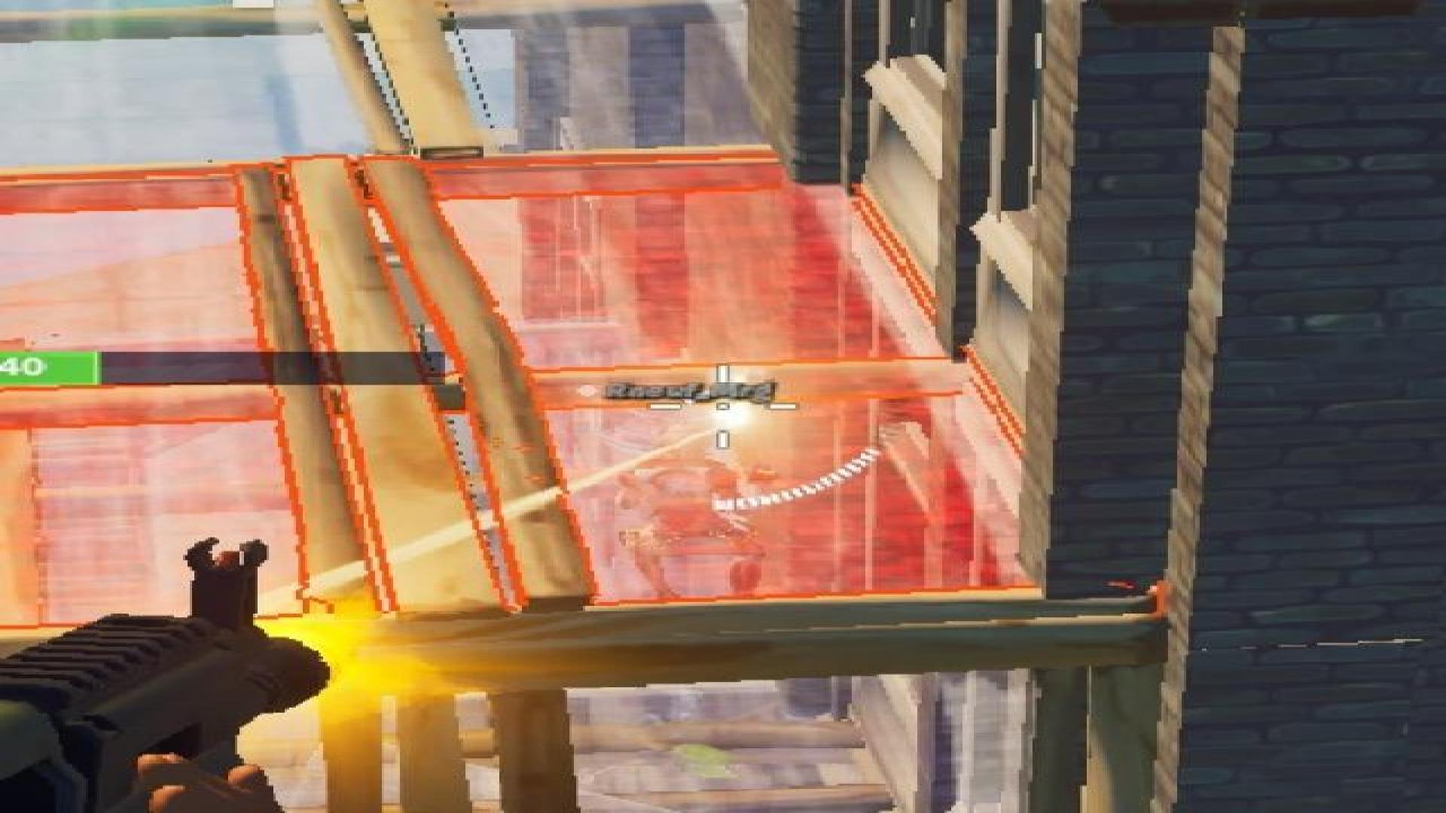player: (586, 419, 794, 594)
